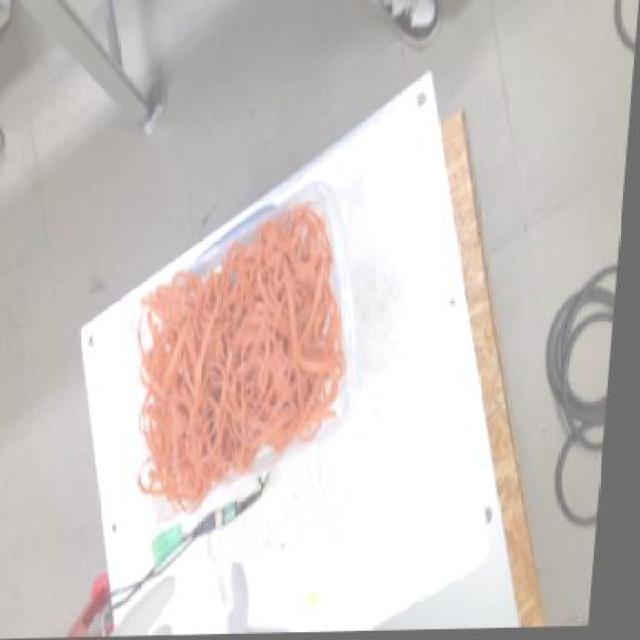Pasta: (140, 212, 363, 506)
